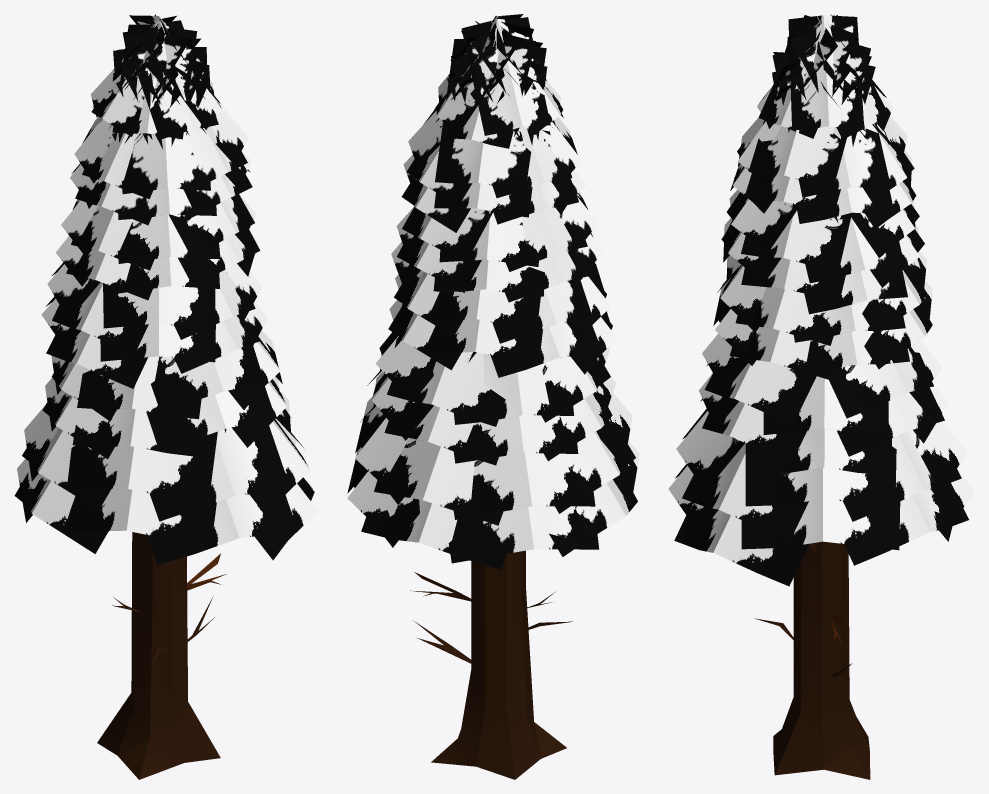
The model's file is tree22.fbx.
3 renders of one model, left to right at view 1: azimuth 30°, elevation 25°; view 2: azimuth 150°, elevation 25°; view 3: azimuth 270°, elevation 25°, orthographic.
Visible parts, largest first — view 1: Cube; view 2: Cube; view 3: Cube.
Part boxes in pixels (x1,y1,x2,y2): Cube: (14,14,317,779); Cube: (347,14,639,779); Cube: (668,14,974,779).
Bounding box in the file's own units: 1239 × 3269 × 1221.
